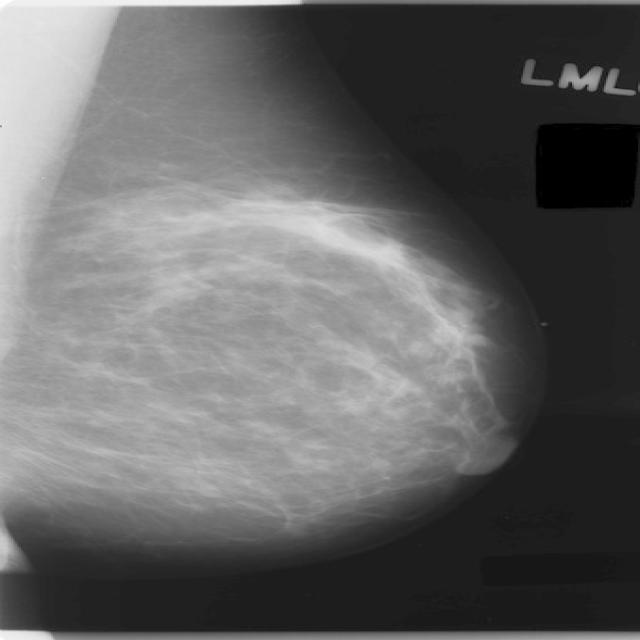tumour: (416, 302, 496, 366)
